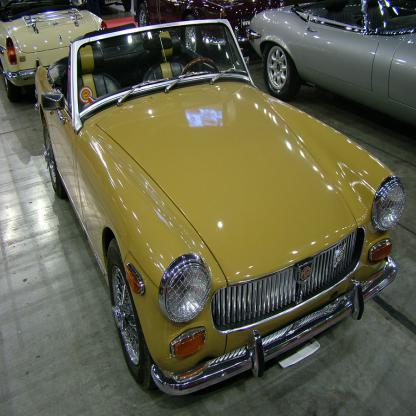Car: (0, 0, 416, 397)
